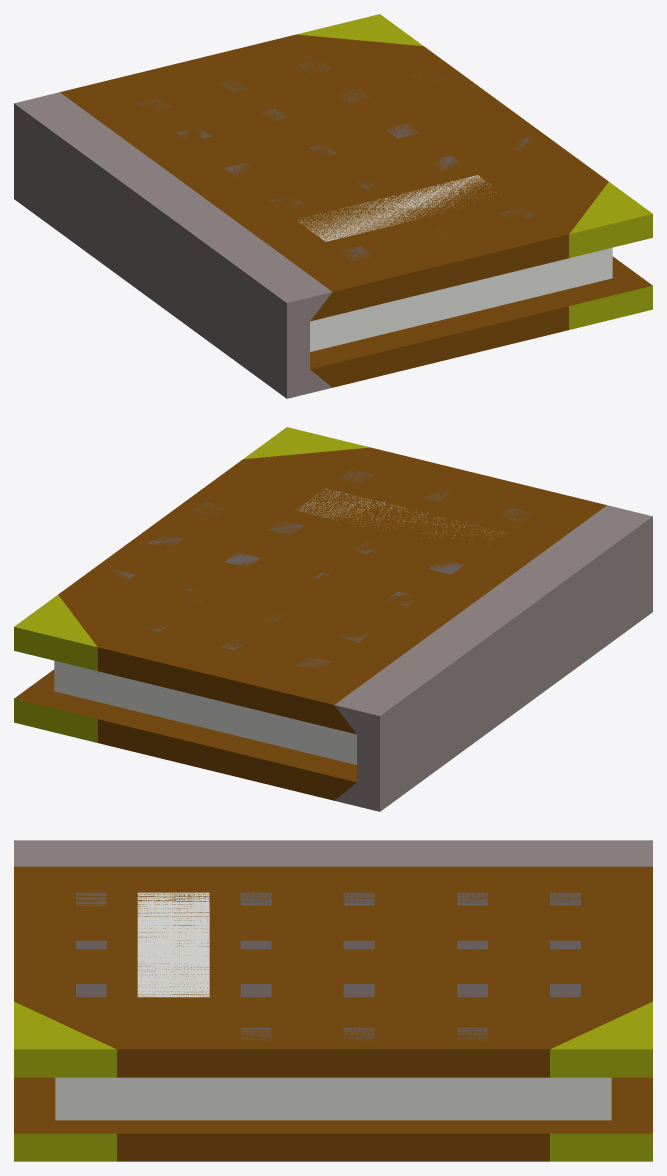
Rendered from inv_book_of_binding.obj.
The picture shows the model from 3 angles, top to bottom: view 1: azimuth 30°, elevation 25°; view 2: azimuth 150°, elevation 25°; view 3: azimuth 270°, elevation 25°; orthographic projection. The views are drawn at different scales.
Size of the model in its own units: 0.375 by 0.0938 by 0.4844.
